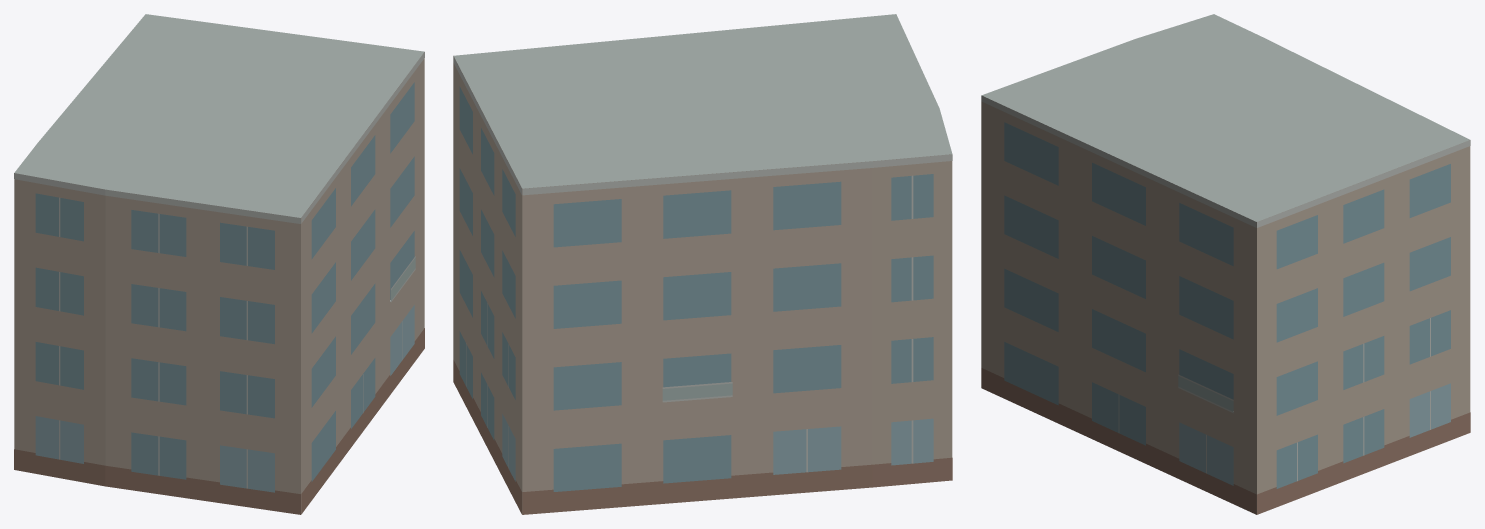
File: survey-upis-32827342.glb
3 renders of one model, left to right at view 1: azimuth 30°, elevation 25°; view 2: azimuth 150°, elevation 25°; view 3: azimuth 270°, elevation 25°, orthographic. The views are drawn at different scales.
Parts seen in each view (by area): view 1: survey-upis-32827342.tmp; view 2: survey-upis-32827342.tmp; view 3: survey-upis-32827342.tmp.
Part boxes in pixels (x1,y1,x2,y2): survey-upis-32827342.tmp: [14, 14, 424, 514]; survey-upis-32827342.tmp: [453, 14, 952, 514]; survey-upis-32827342.tmp: [981, 14, 1470, 514].
Bounding box in the file's own units: 17.99 × 11.8 × 17.87.
